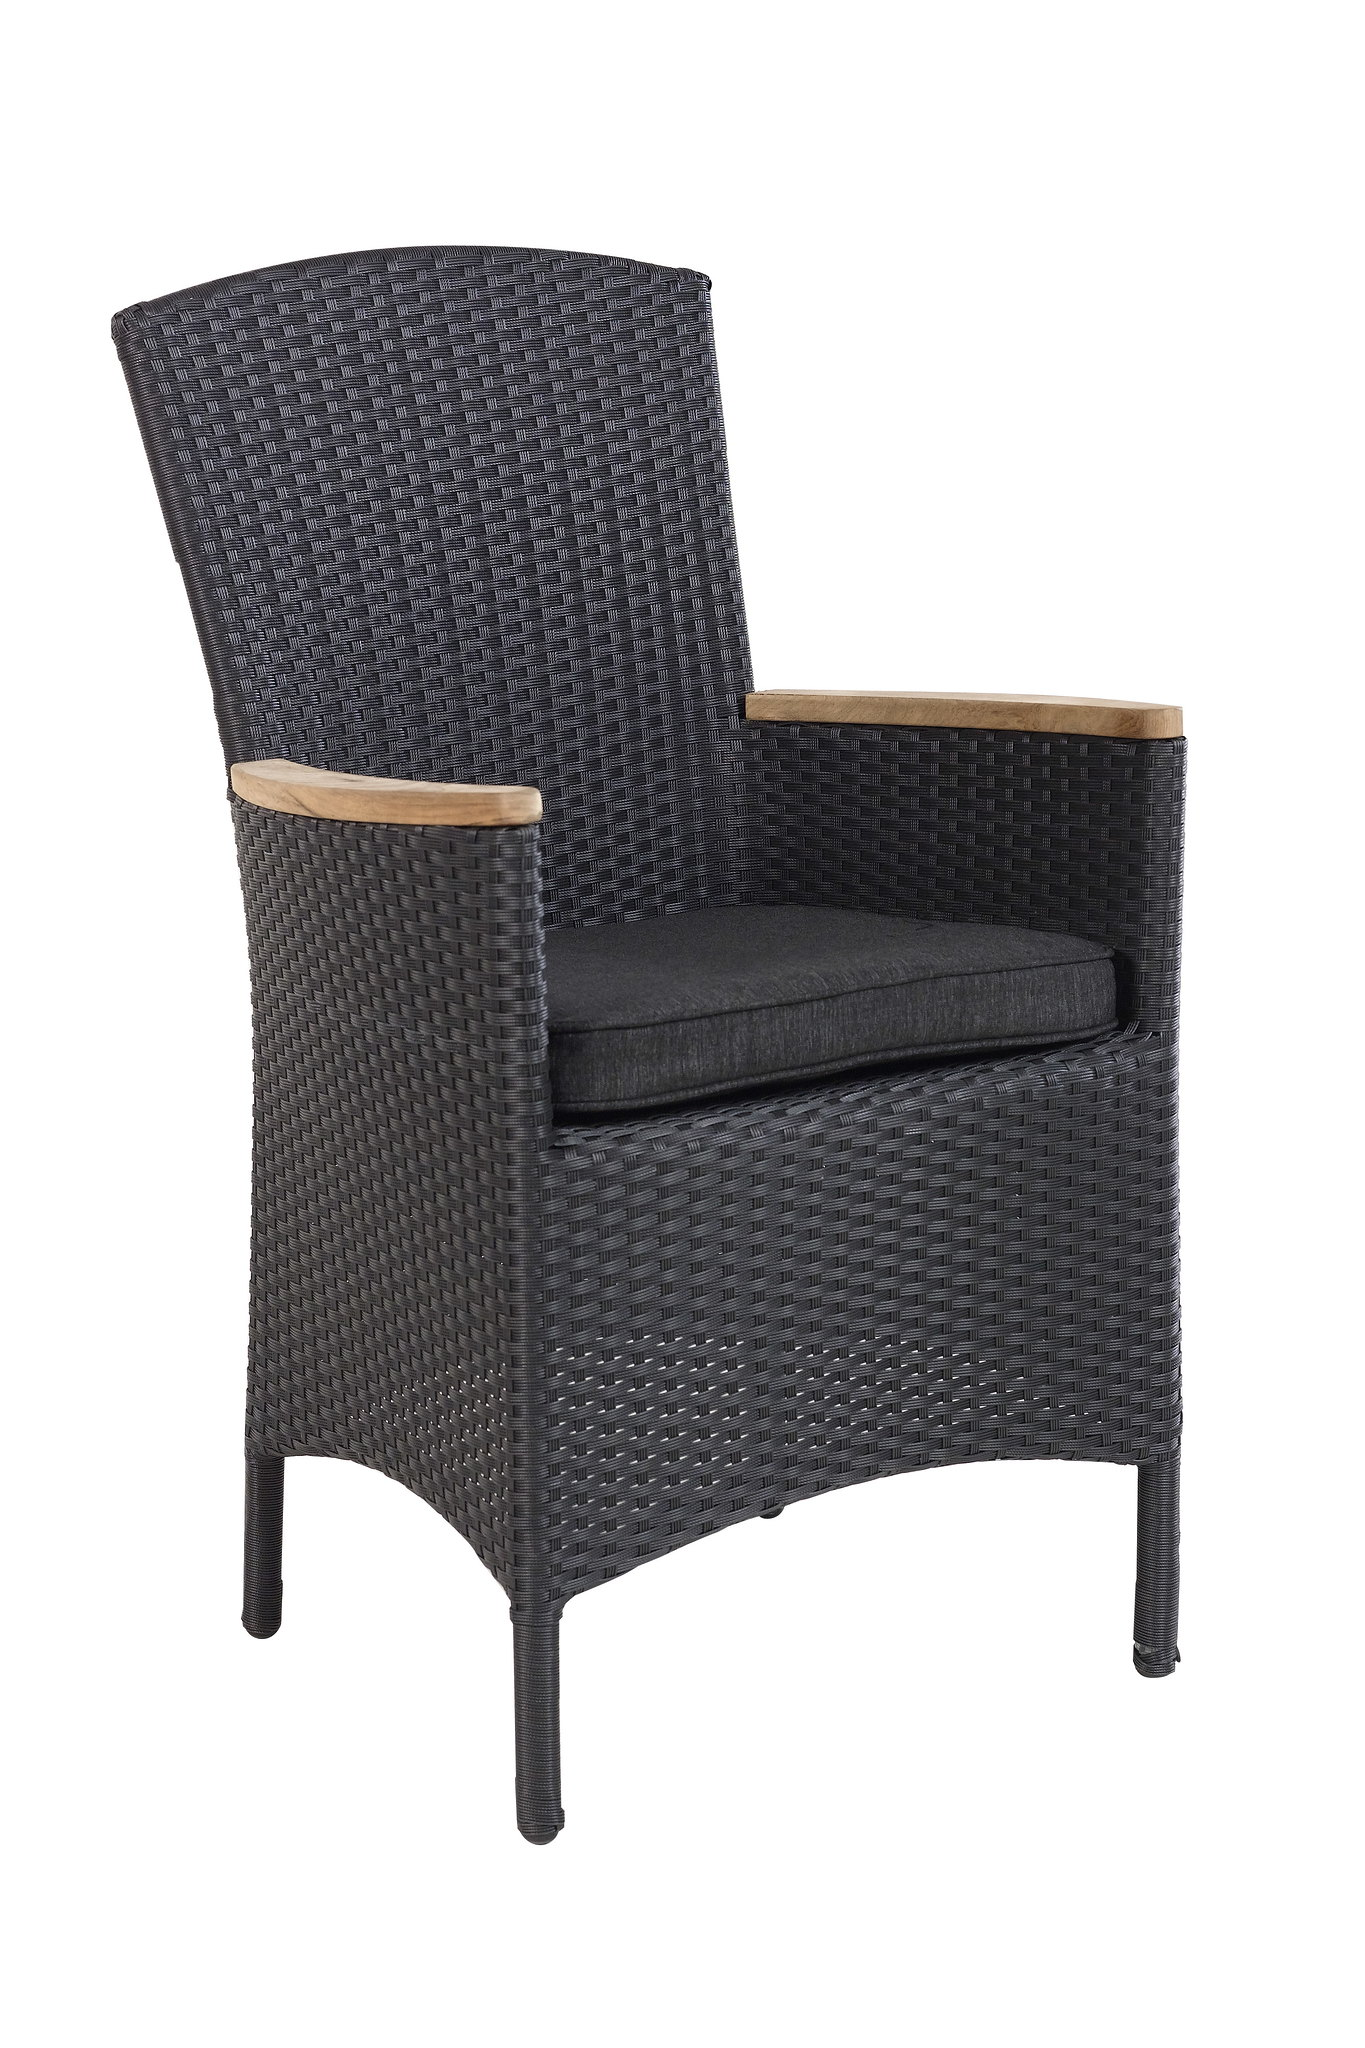chair: (75, 207, 1261, 1842)
